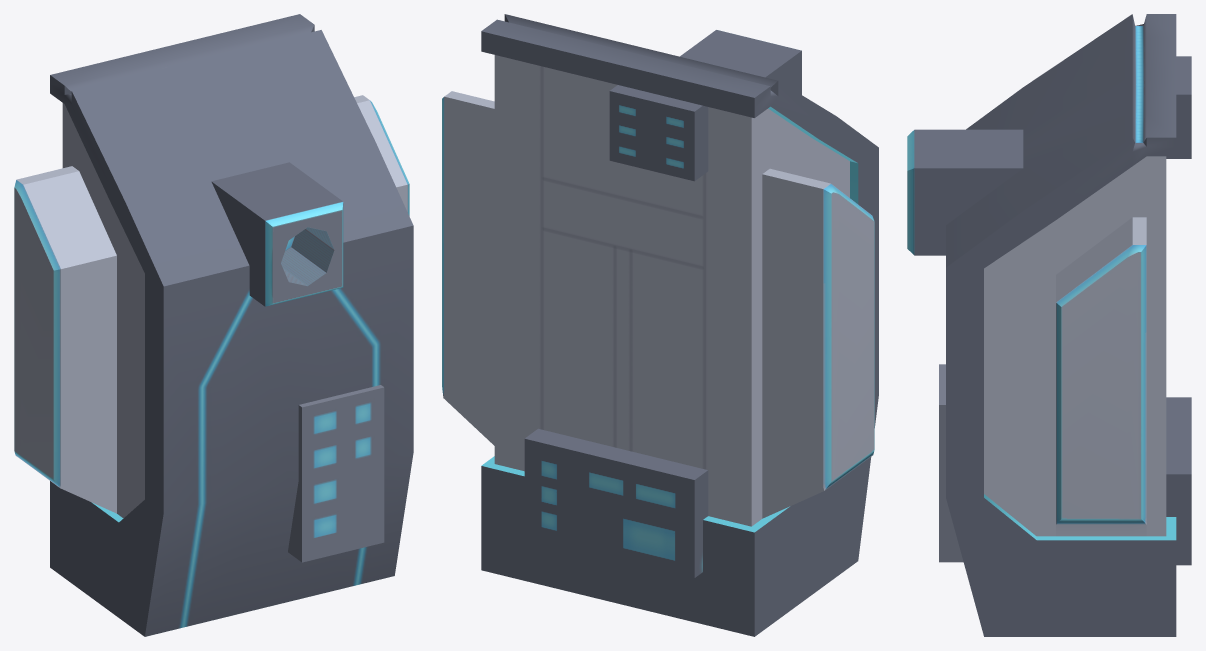
The model's file is ammeter_main.fbx.
The picture shows the model from 3 angles, left to right: view 1: azimuth 30°, elevation 25°; view 2: azimuth 150°, elevation 25°; view 3: azimuth 270°, elevation 25°; orthographic projection. The views are drawn at different scales.
Visible parts, largest first — view 1: pCube1, pCube2; view 2: pCube1; view 3: pCube1, pCube2.
Boxes of the visible parts, box(x1,y1,x2,y2) form: pCube1: box(14, 14, 413, 636); pCube2: box(288, 385, 384, 562); pCube1: box(442, 14, 878, 636); pCube1: box(907, 14, 1191, 636); pCube2: box(939, 364, 963, 562).
Size of the model in its own units: 1.01 by 1.33 by 0.6884.
